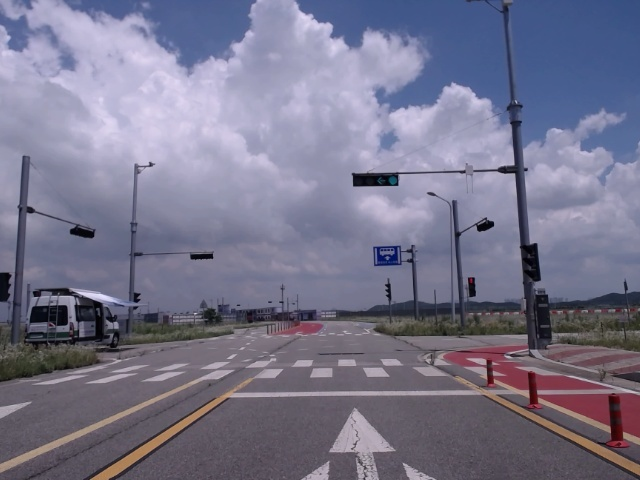all_green_4: (349, 172, 401, 186)
